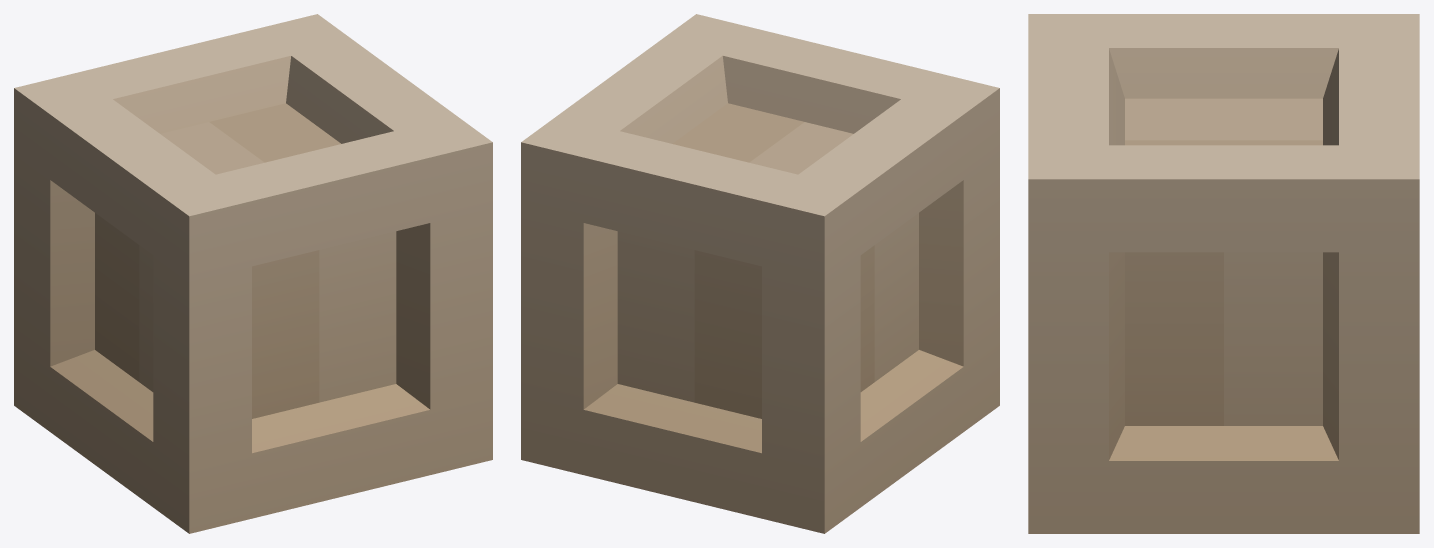
Rendered from crate_B_small.glb.
3 renders of one model, left to right at view 1: azimuth 30°, elevation 25°; view 2: azimuth 150°, elevation 25°; view 3: azimuth 270°, elevation 25°, orthographic. The views are drawn at different scales.
Parts seen in each view (by area): view 1: crate_B_small; view 2: crate_B_small; view 3: crate_B_small.
Part boxes in pixels (left/top/right/bottom): crate_B_small: left=14, top=14, right=492, bottom=533; crate_B_small: left=521, top=14, right=999, bottom=533; crate_B_small: left=1028, top=14, right=1419, bottom=533.
Size of the model in its own units: 0.14 by 0.14 by 0.14.
1 material, 1 textured.
